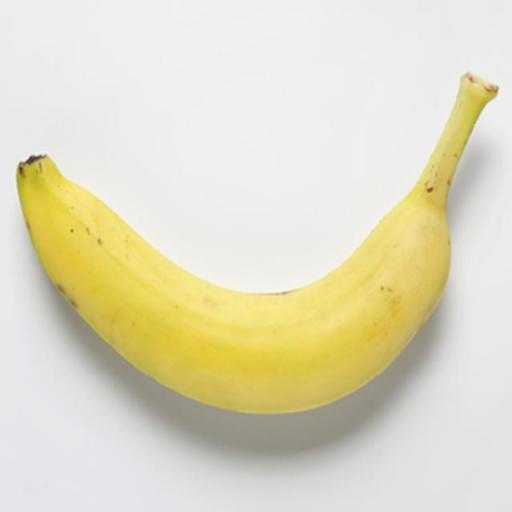fruit: (16, 74, 496, 412)
